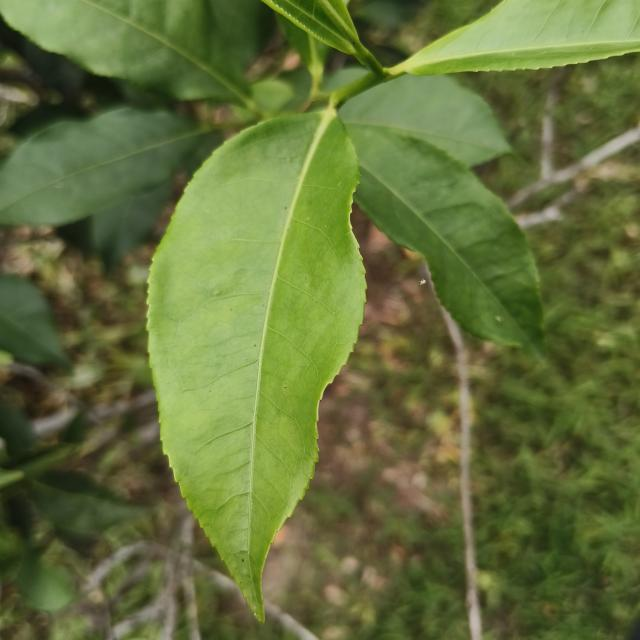Leaf: (148, 110, 366, 620), (347, 124, 543, 354), (0, 107, 208, 226), (0, 0, 246, 99), (392, 0, 640, 75), (339, 75, 510, 166), (262, 0, 384, 78), (32, 471, 148, 537), (90, 184, 171, 270), (0, 274, 69, 368), (17, 549, 75, 611)
